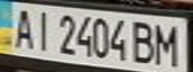0: (90, 15, 112, 60)
2: (54, 10, 78, 56)
4: (109, 16, 130, 63), (72, 12, 93, 57)
A: (9, 4, 36, 50)
B: (130, 18, 160, 65)
I: (30, 7, 57, 52)
M: (151, 19, 184, 67)
